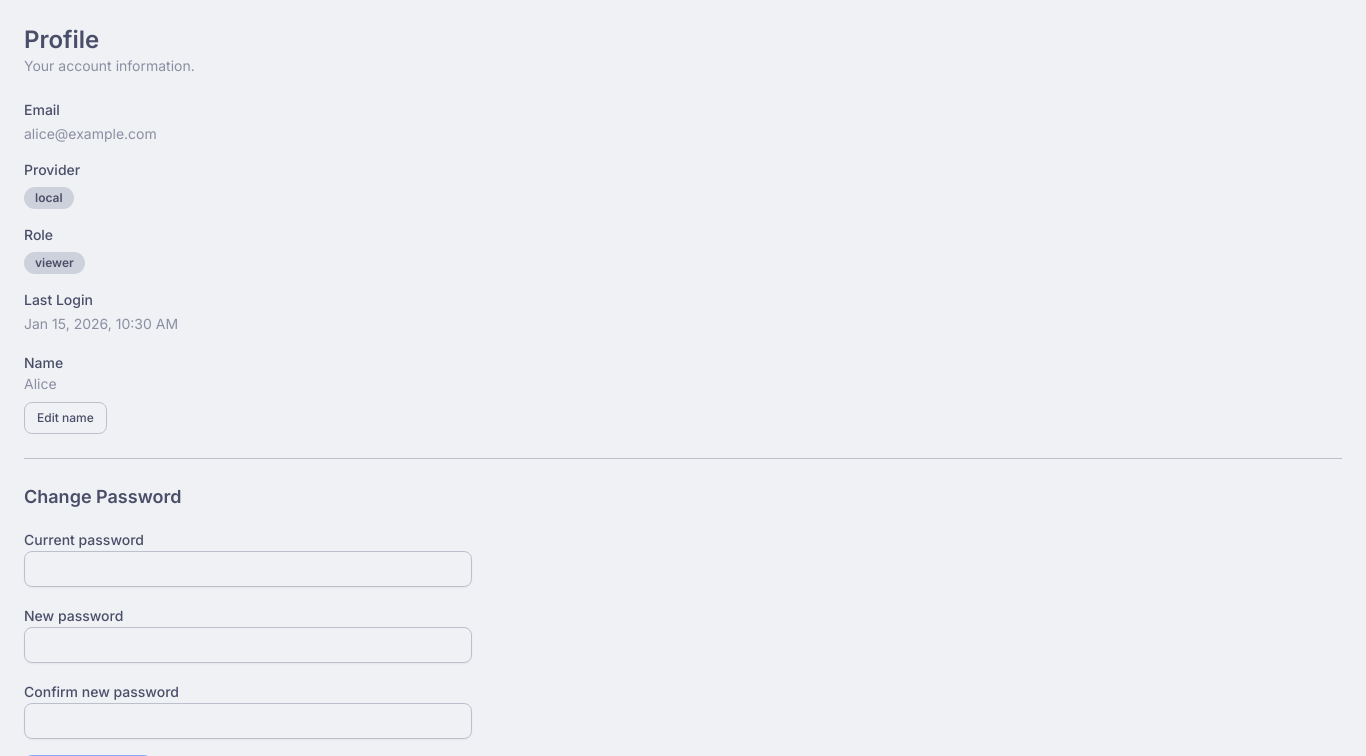
Test case: ProfilePage › disables submit and shows an inline error: confirm mismatch
Type "OldPassword123!" into the password field labelled "Current password" at (248,569), box [24,551,472,587]
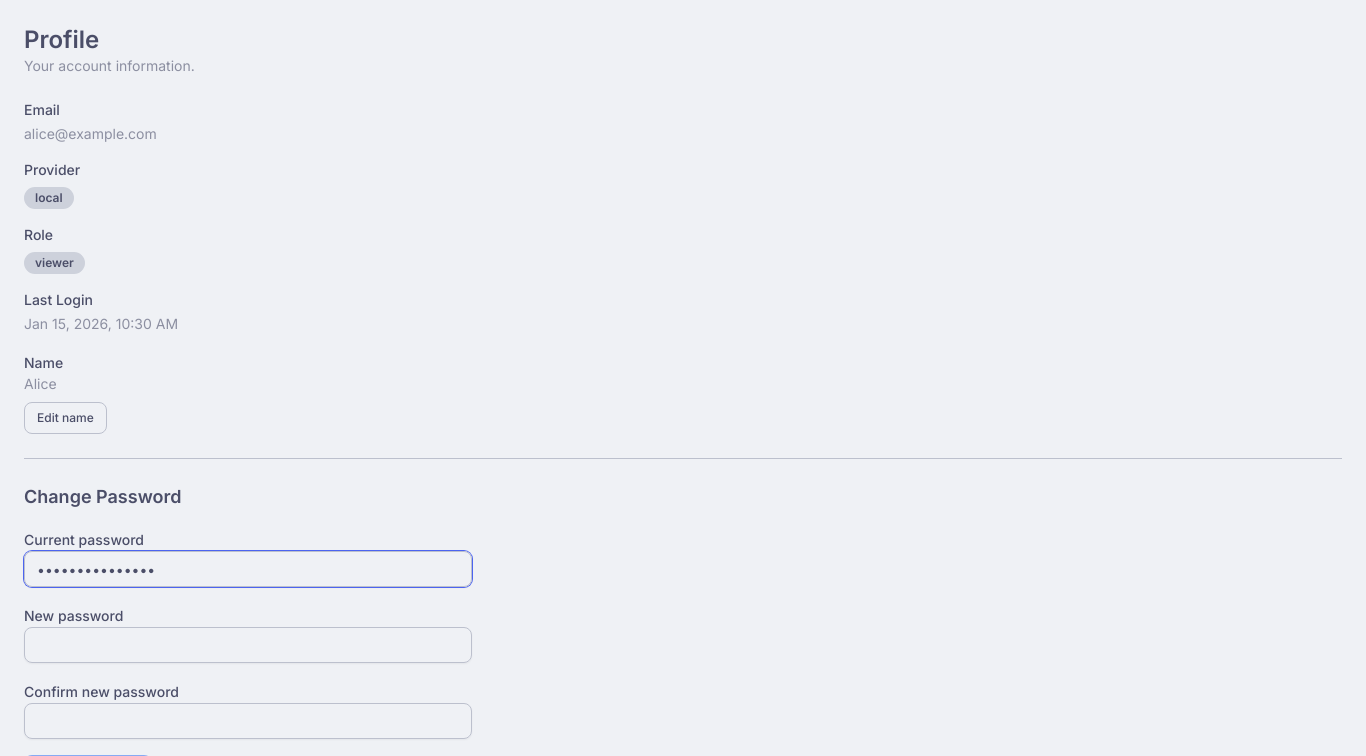
Type "NewPassword456!" into the password field labelled "New password" at (248,645), box [24,627,472,663]
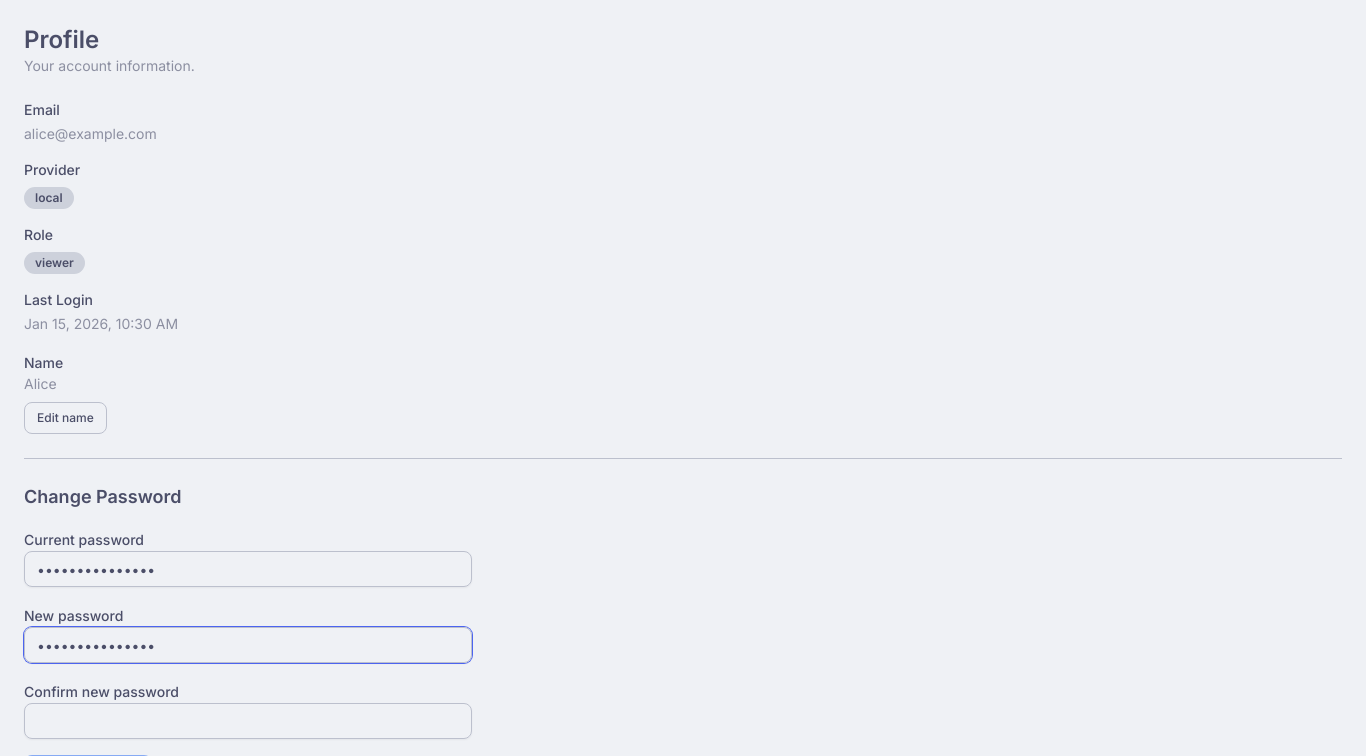
Type "DifferentPass456!" into the password field labelled "Confirm new password" at (248,721), box [24,703,472,739]
(page scrolled)
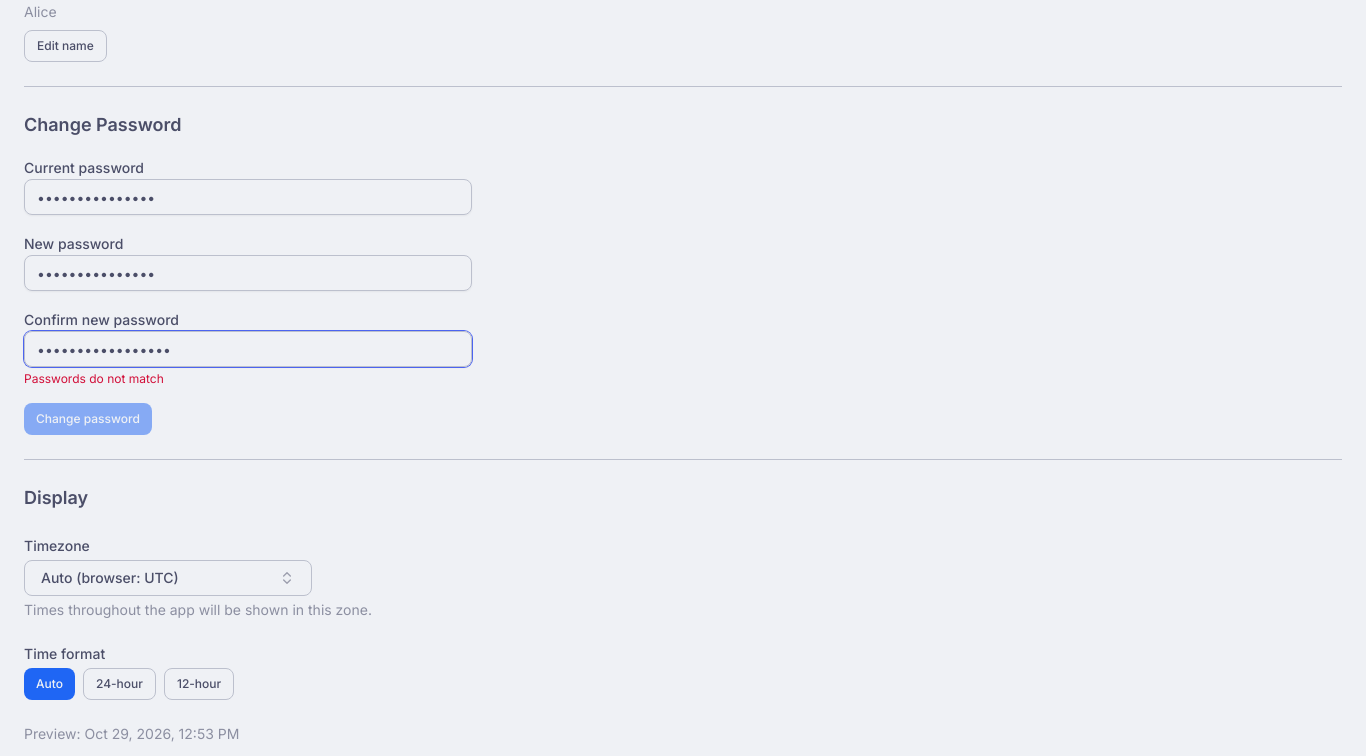
Check: the button "Change password" is disabled, box [24,403,152,435]
Check: the text "Passwords do not match" is shown, box [24,371,164,386]
